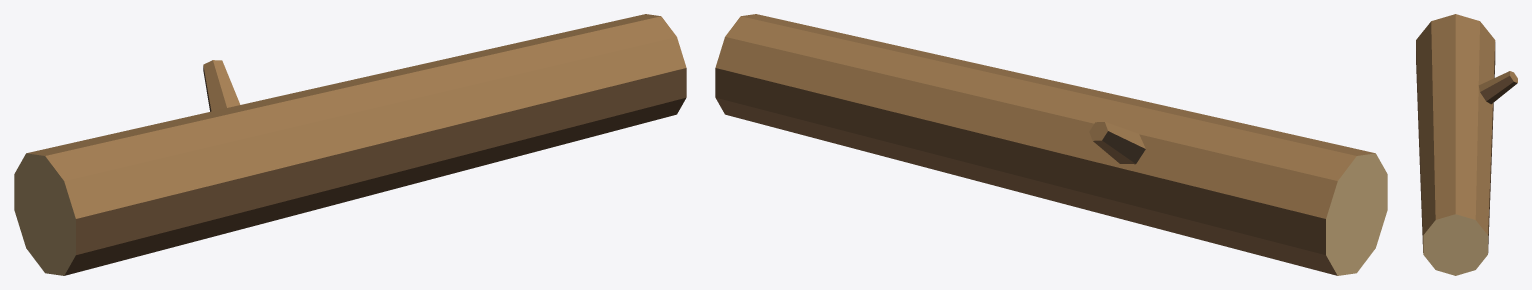
The model's file is TW_PROP_LOG_STRAIGHT_A_LOD0.glb.
3 views of the same model, side by side, from view 1: azimuth 30°, elevation 25°; view 2: azimuth 150°, elevation 25°; view 3: azimuth 270°, elevation 25° (orthographic). The views are drawn at different scales.
Visible parts, largest first — view 1: TW_PROP_LOG_STRAIGHT_A_LOD0; view 2: TW_PROP_LOG_STRAIGHT_A_LOD0; view 3: TW_PROP_LOG_STRAIGHT_A_LOD0.
Part boxes in pixels (left/top/right/bottom): TW_PROP_LOG_STRAIGHT_A_LOD0: left=14, top=14, right=686, bottom=275; TW_PROP_LOG_STRAIGHT_A_LOD0: left=715, top=14, right=1387, bottom=275; TW_PROP_LOG_STRAIGHT_A_LOD0: left=1416, top=14, right=1517, bottom=275.
Size of the model in its own units: 2.2 by 0.4473 by 0.4894.
Materials: 1 (1 with a texture image).
